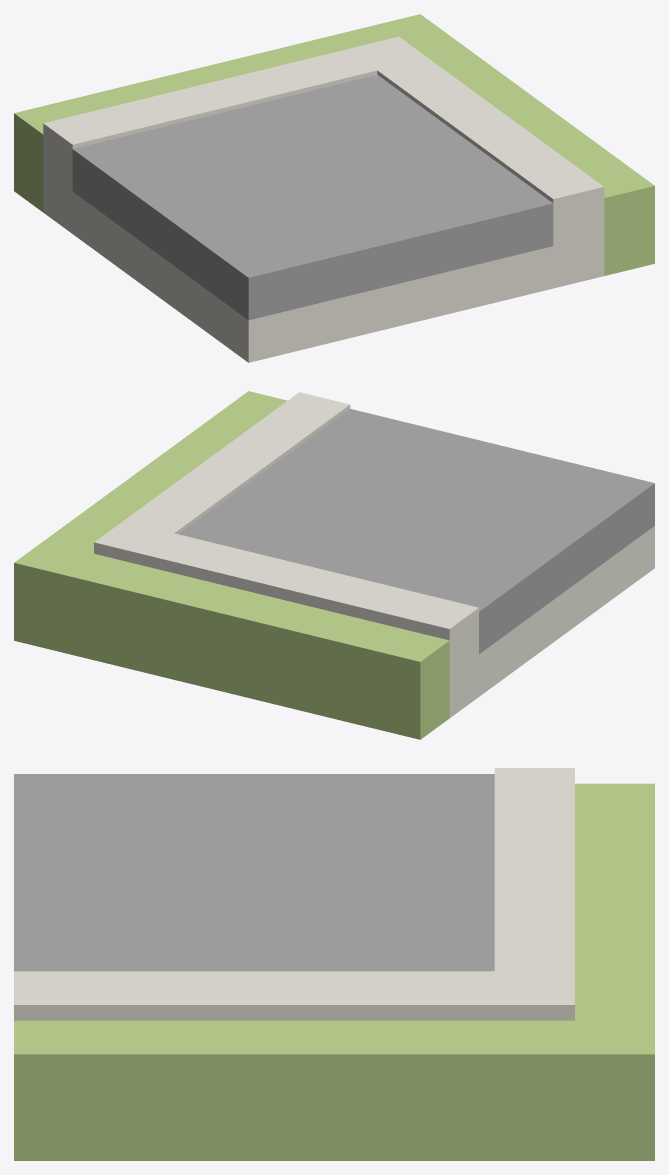
The model's file is tile044.glb.
The picture shows the model from 3 angles, top to bottom: view 1: azimuth 30°, elevation 25°; view 2: azimuth 150°, elevation 25°; view 3: azimuth 270°, elevation 25°; orthographic projection. The views are drawn at different scales.
Parts seen in each view (by area): view 1: tile044; view 2: tile044; view 3: tile044.
Part boxes in pixels (bbox=[...]): tile044: bbox=[14, 14, 654, 362]; tile044: bbox=[14, 391, 654, 739]; tile044: bbox=[14, 768, 654, 1160].
Size of the model in its own units: 1 by 0.21 by 1.
